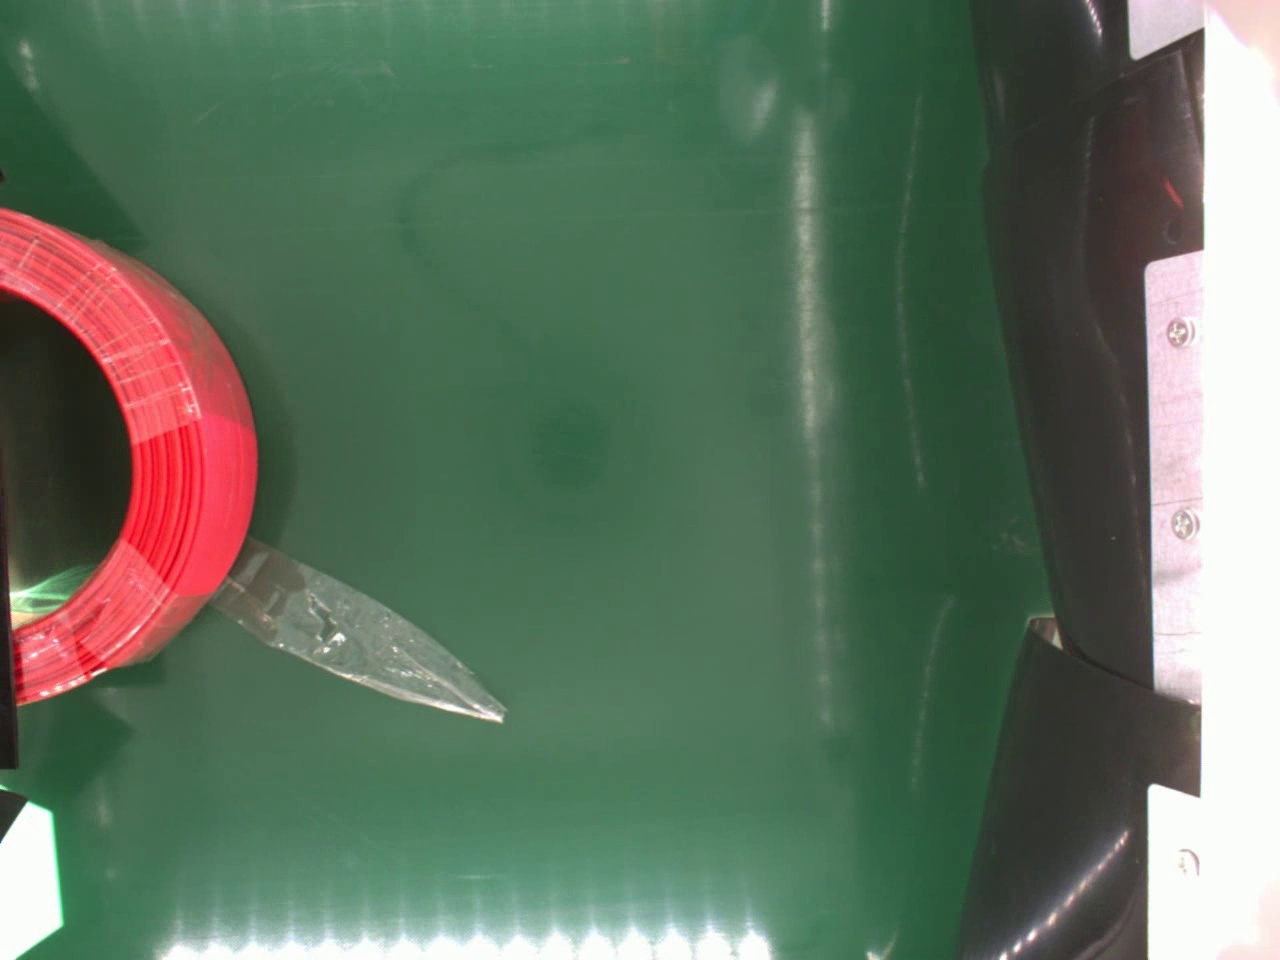red: (0, 208, 253, 704)
